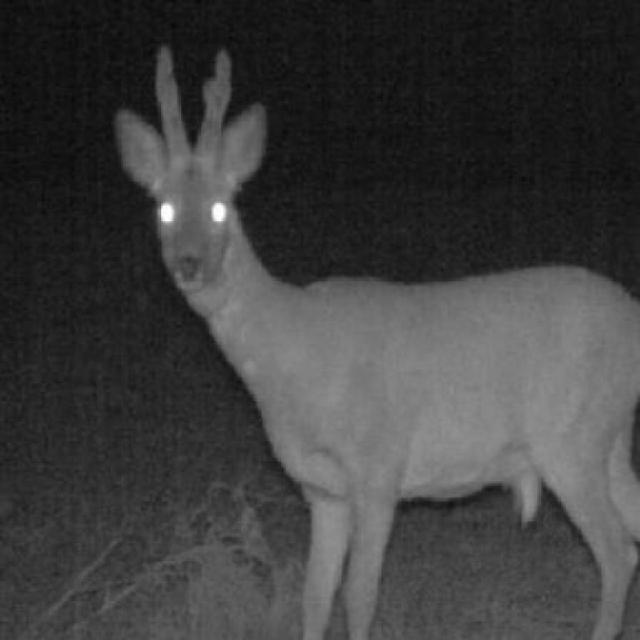Deer: (101, 46, 638, 634)
